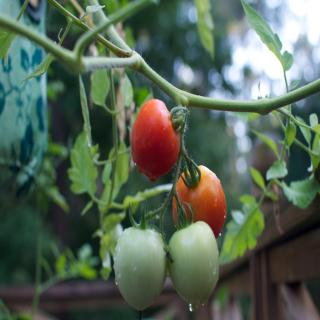tomato: (116, 207, 166, 312), (168, 203, 218, 307), (174, 163, 228, 241), (132, 98, 180, 179)
